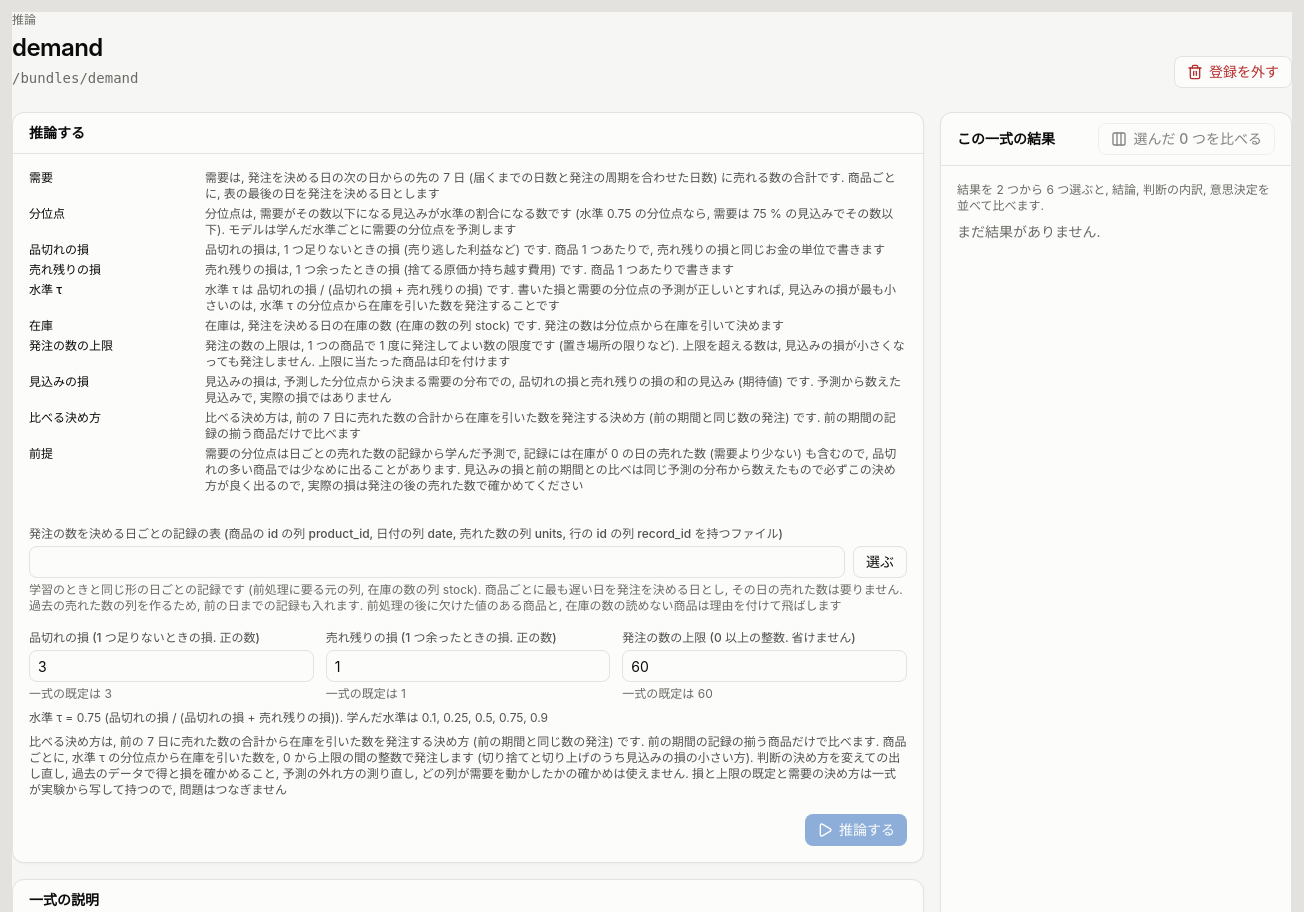
Test: 需要の一式の画面 › 損と上限を確かめ, 記録の表と発注の判断を渡して推論する
The image size is (1304, 912).
Later steps or results of the test are not shown.
Type "/data/daily.csv" into the field labelled "発注の数を決める日ごとの記録の表" at (437, 562), box [29,546,845,578]
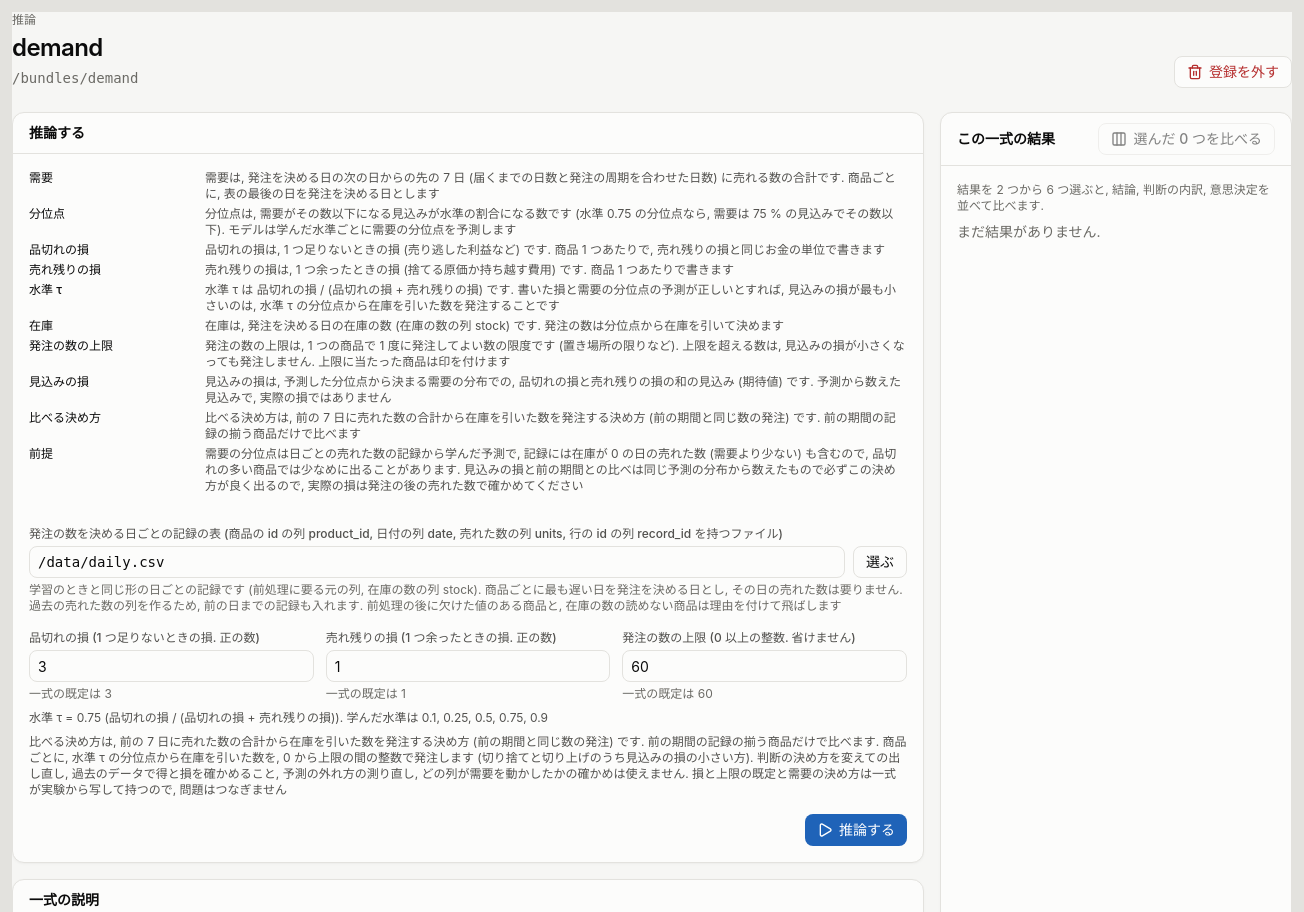
Replace the text in the number field labelled "売れ残りの損 (1 つ余ったときの損. 正の数)" with "0" at (468, 666), box [326,650,610,682]
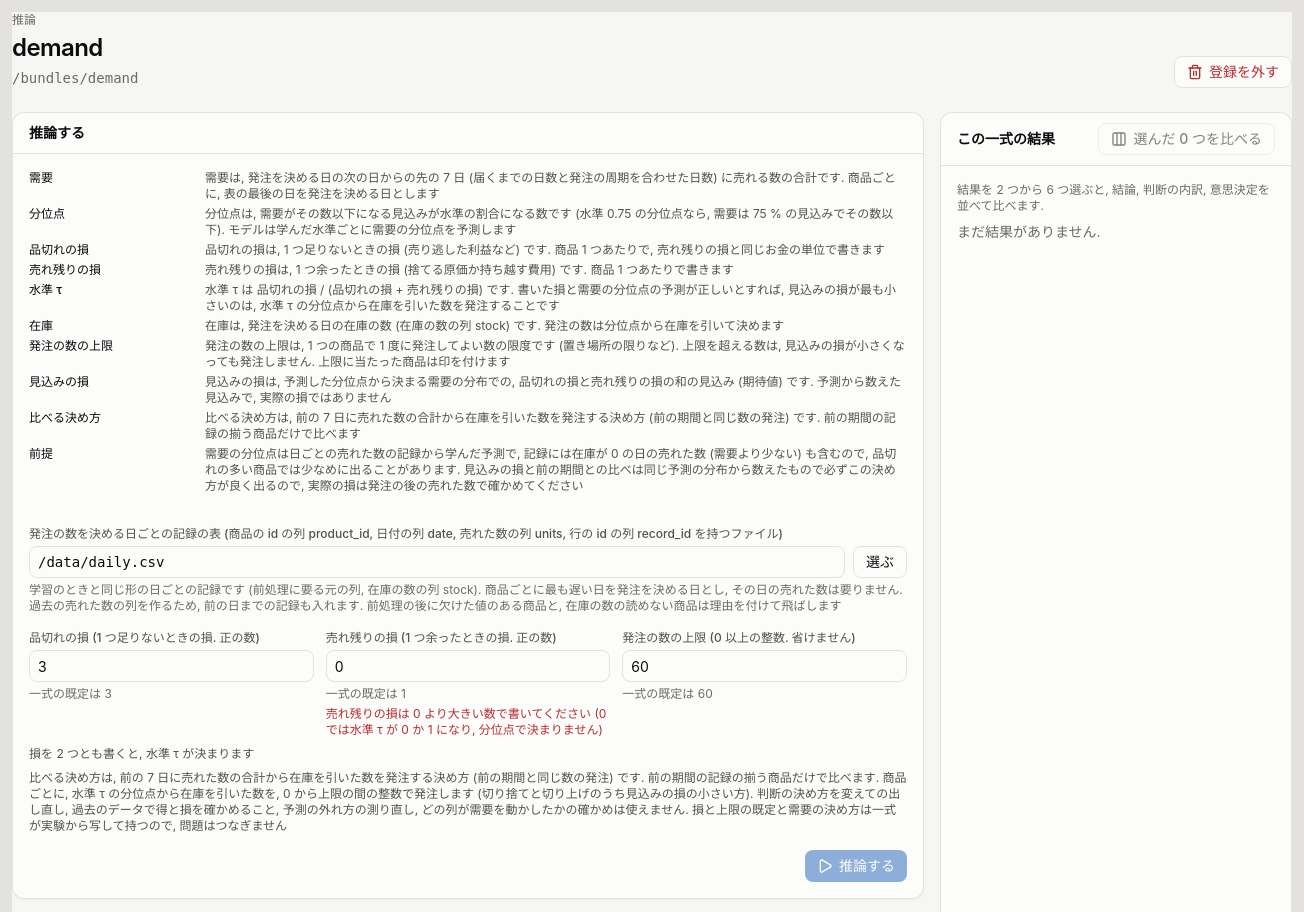
Expected: the button "推論する" is disabled, [805,850,907,882]
Replace the text in the number field labelled "売れ残りの損 (1 つ余ったときの損. 正の数)" with "1" at (468, 666), box [326,650,610,682]
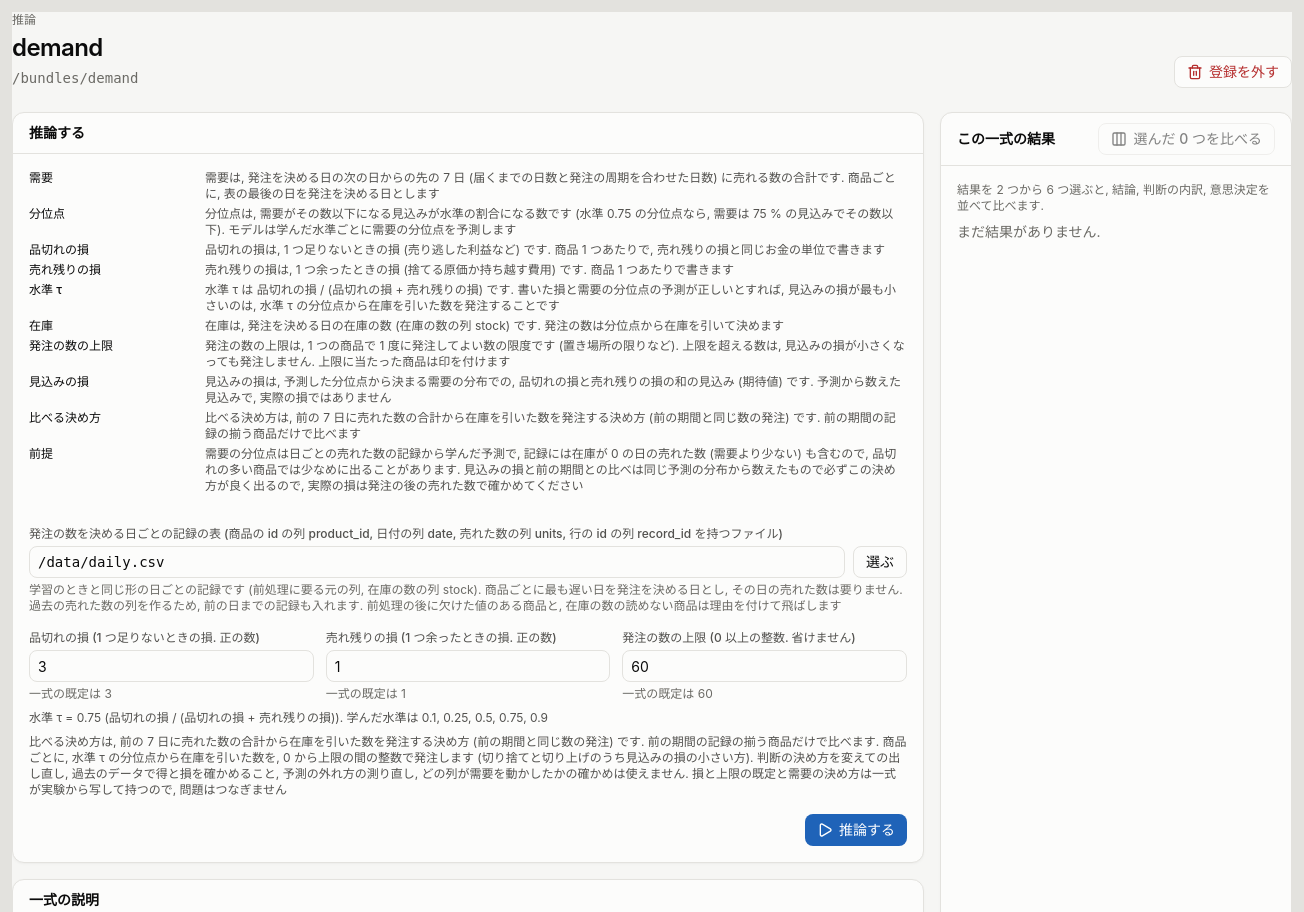
Replace the text in the number field labelled "発注の数の上限 (0 以上の整数. 省けません)" with "2.5" at (765, 666), box [622,650,907,682]
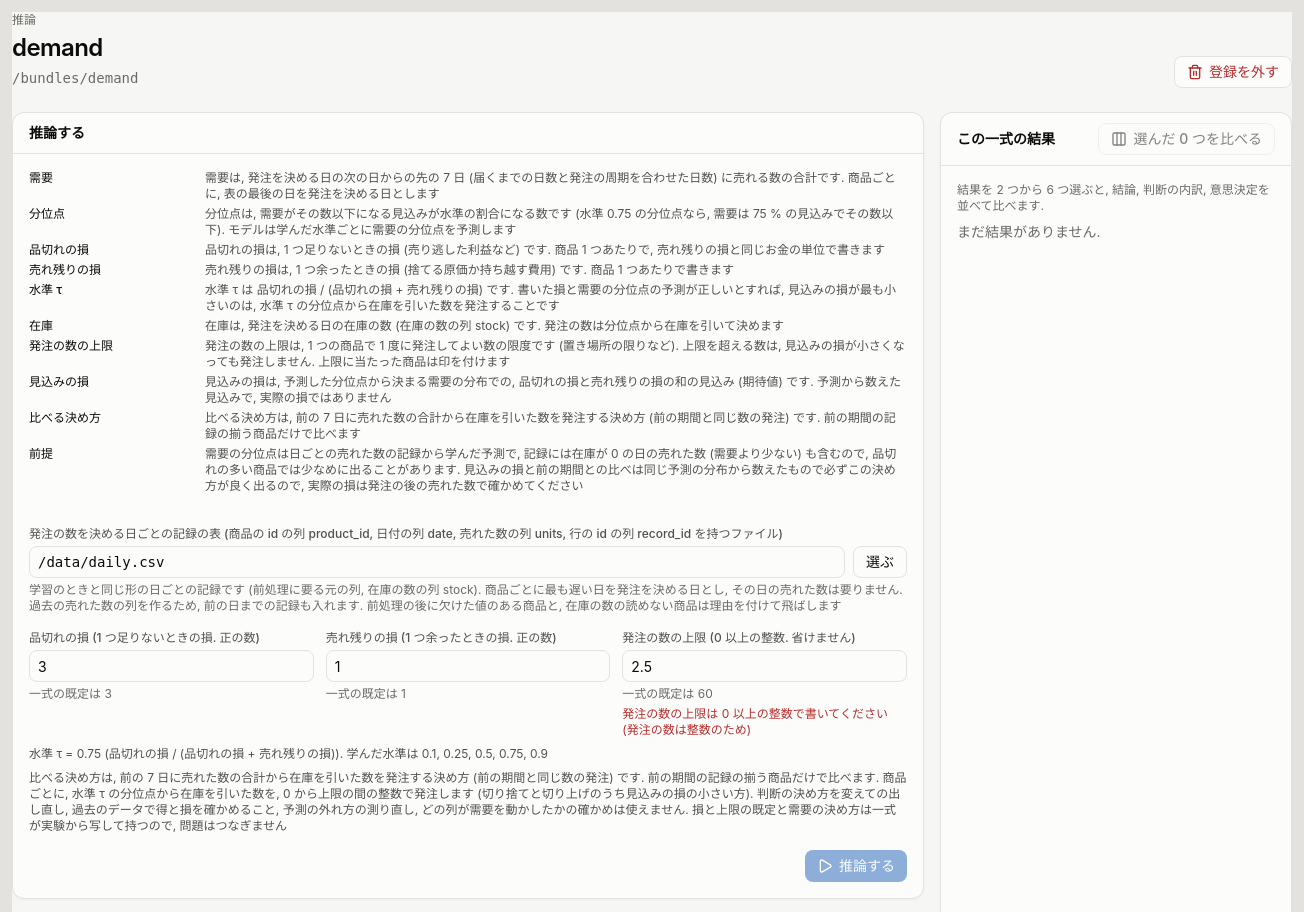
Expected: the button "推論する" is disabled, [805,850,907,882]
Replace the text in the number field labelled "品切れの損 (1 つ足りないときの損. 正の数)" with "19" at (171, 666), box [29,650,314,682]
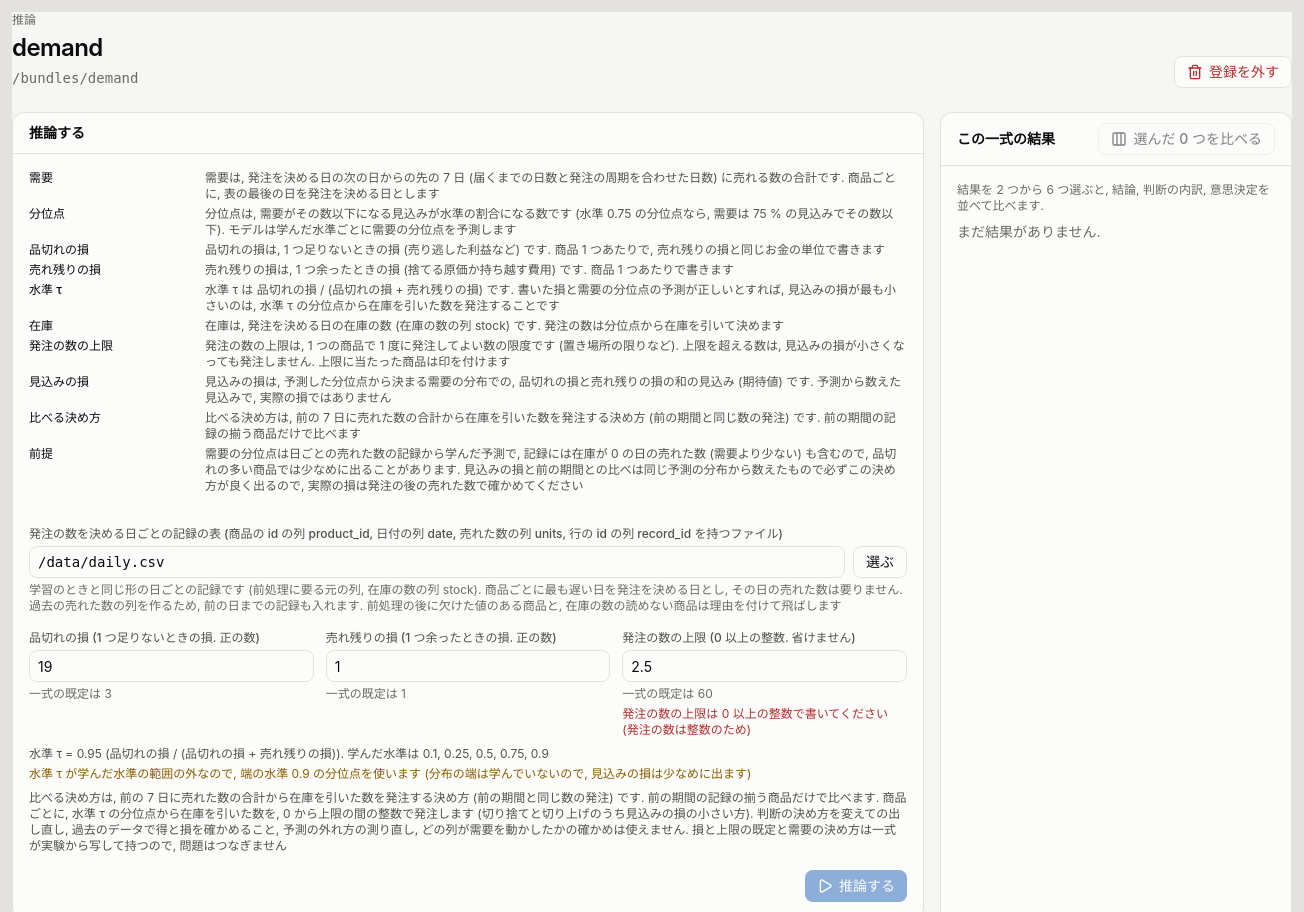
Replace the text in the number field labelled "発注の数の上限 (0 以上の整数. 省けません)" with "0" at (765, 666), box [622,650,907,682]
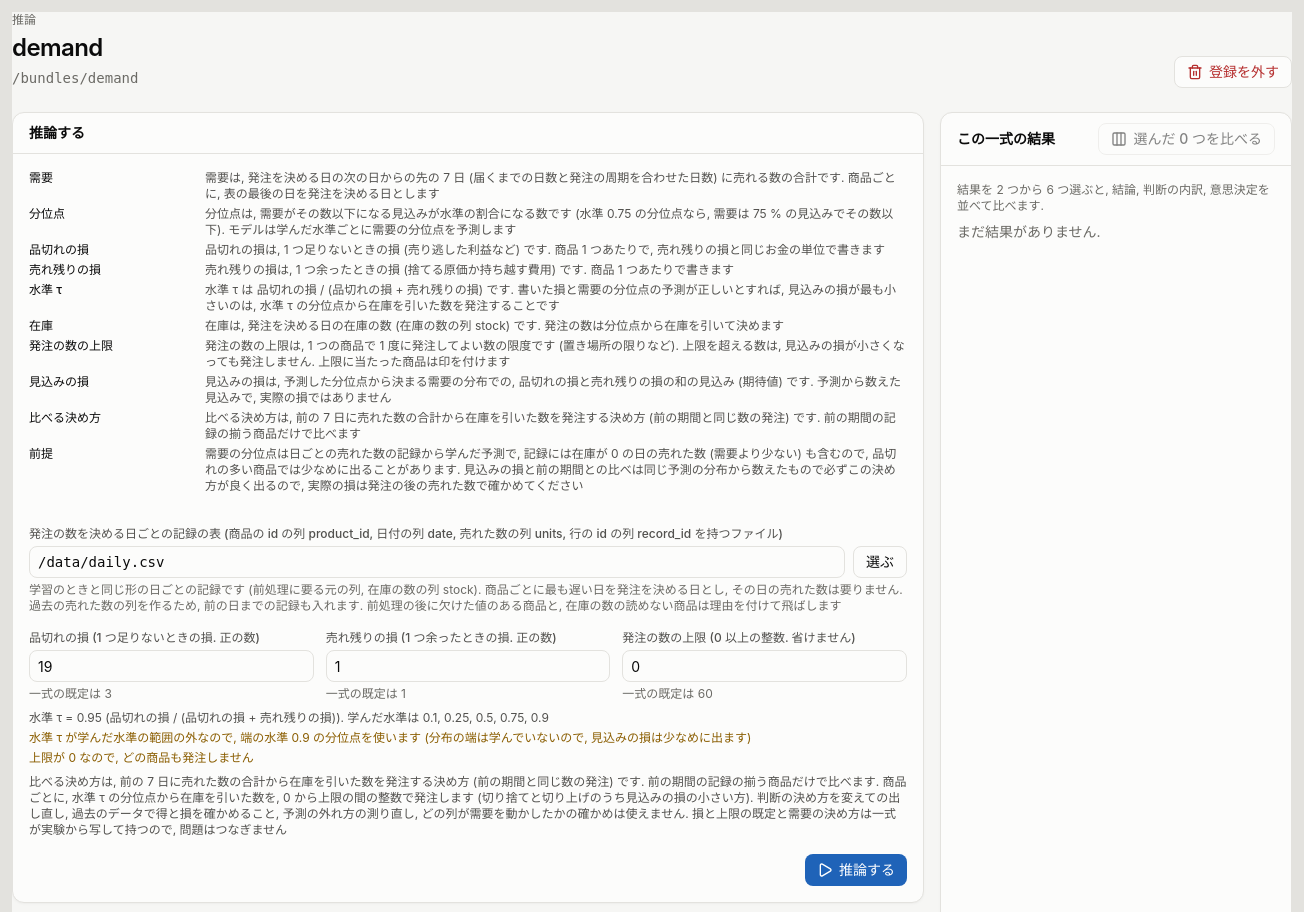
Expected: the text "水準 τ = 0.95 (品切れの損 / (品切れの損 + 売れ残りの損)). 学んだ水準は 0.1, 0.25, 0.5, 0.75, 0.9" is shown, [29,710,549,725]
Expected: the text "端の水準 0.9 の分位点を使います" is shown, [29,730,751,745]
Expected: the text "上限が 0 なので, どの商品も発注しません" is shown, [29,750,254,765]
